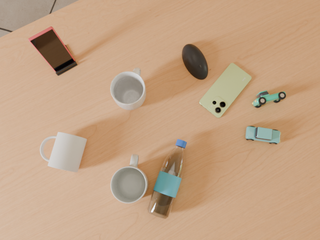bottle: (147, 139, 187, 219)
cup: (40, 132, 87, 172), (111, 154, 149, 203), (111, 67, 146, 110)
mouse: (182, 44, 208, 80)
phone: (199, 63, 251, 118), (28, 27, 75, 71)
toy_car: (246, 126, 281, 144), (252, 90, 286, 108)
